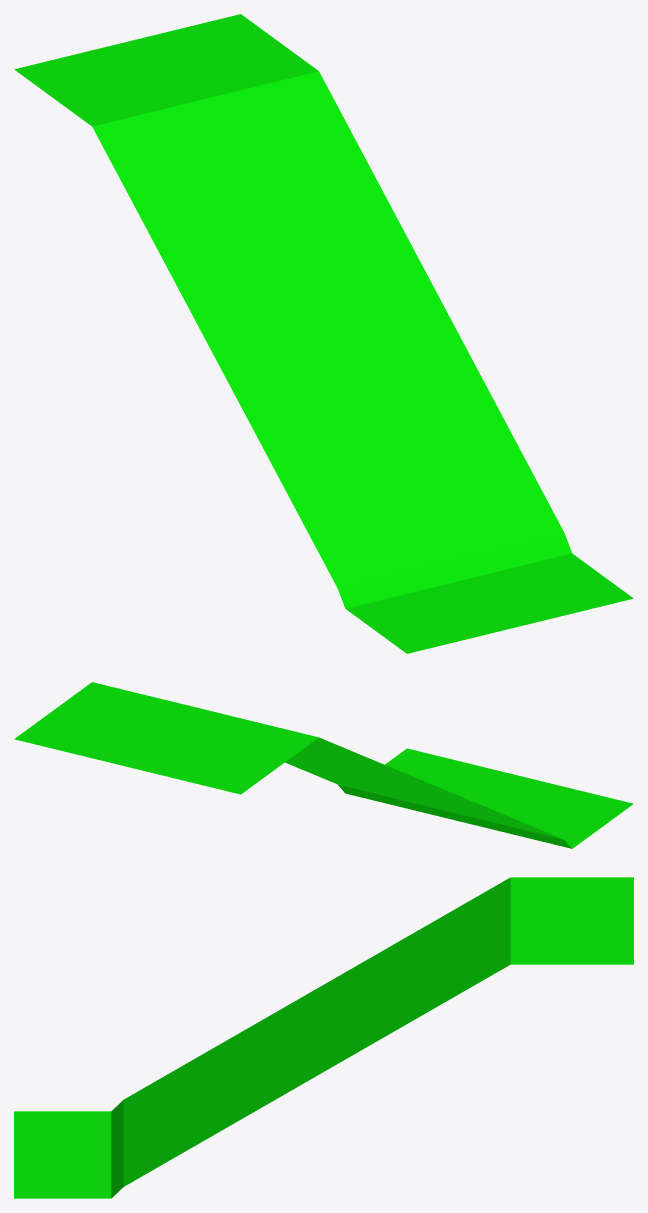
Rendered from c_hallway_stairwell_g.fbx.
3 renders of one model, top to bottom at view 1: azimuth 30°, elevation 25°; view 2: azimuth 150°, elevation 25°; view 3: azimuth 270°, elevation 25°, orthographic. The views are drawn at different scales.
Parts seen in each view (by area): view 1: coll_hallway_stairwell_g; view 2: coll_hallway_stairwell_g; view 3: coll_hallway_stairwell_g.
Part boxes in pixels (<box>): coll_hallway_stairwell_g: <box>14,14,633,653</box>; coll_hallway_stairwell_g: <box>14,682,633,848</box>; coll_hallway_stairwell_g: <box>14,877,633,1198</box>.
Bounding box in the file's own units: 800 × 1000 × 2400.
